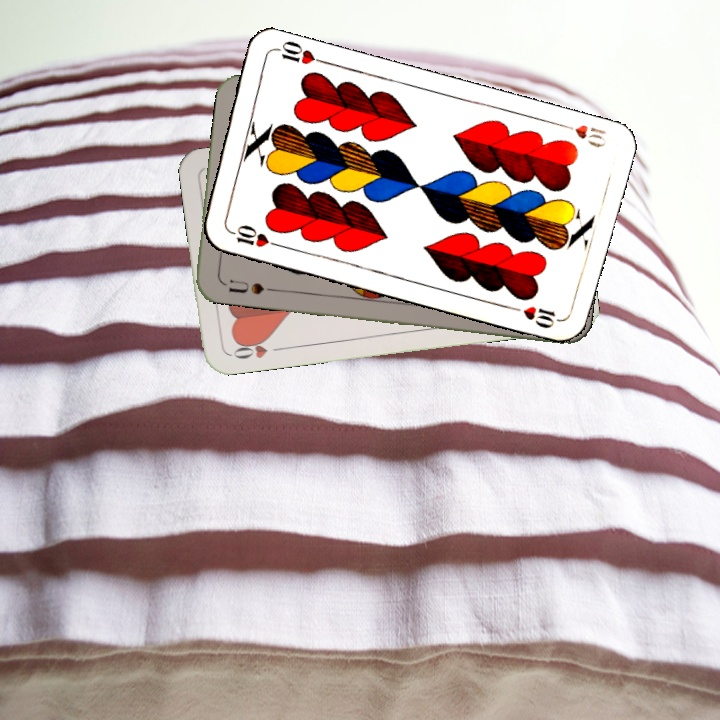H10: (553, 118, 609, 150), (224, 221, 282, 250)
HO: (226, 334, 285, 362)
SU: (225, 275, 267, 298)
